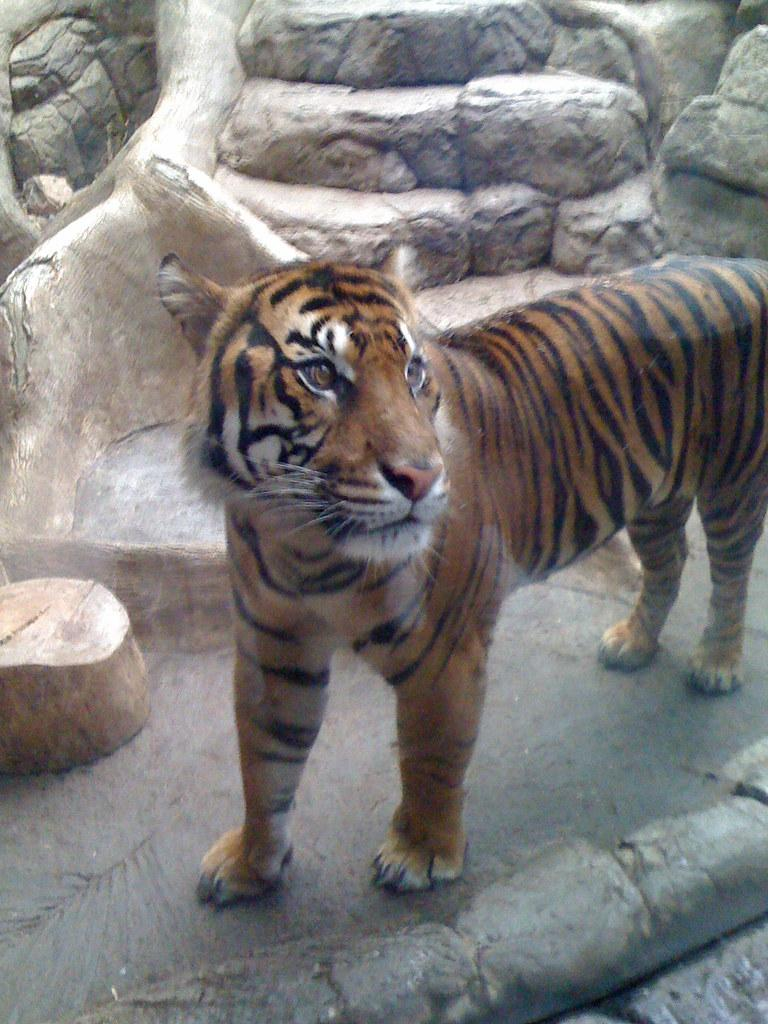tiger: (155, 244, 767, 908)
